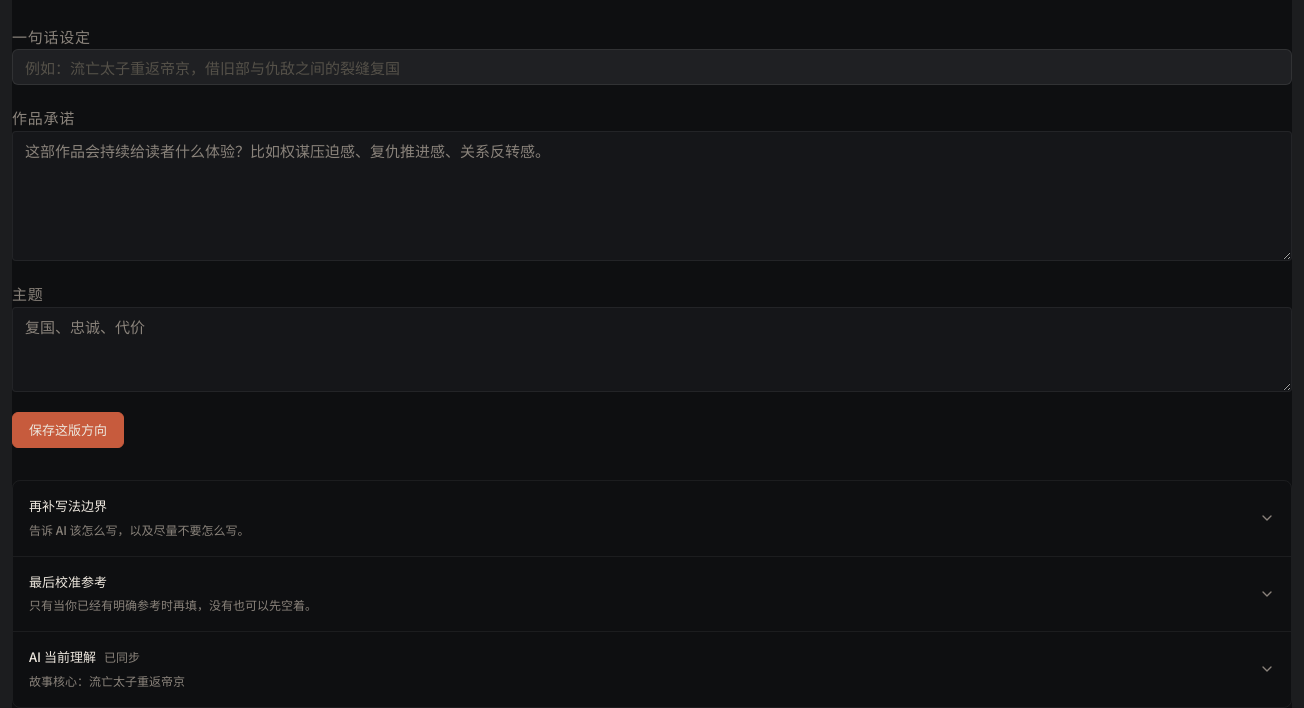
Test: ProjectCharterForm › renders ai understanding as collapsed read-only feedback
(page scrolled)
Check: the text "已同步" is shown, box [104, 650, 140, 666]
Check: the text "故事核心：流亡太子重返帝京" is shown, box [29, 671, 185, 691]
Click the button "AI 当前理解 已同步 故事核心：流亡太子重返帝京" at (63, 657), box [13, 632, 1291, 707]
(page scrolled)
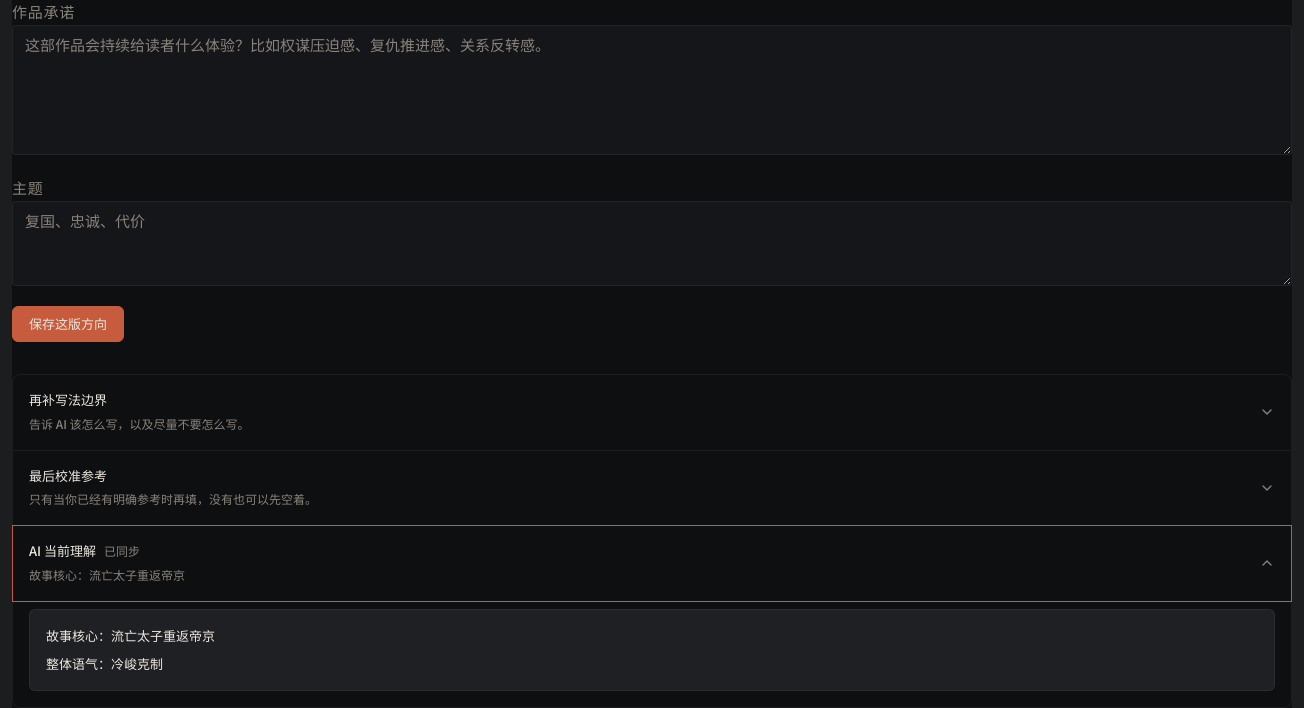
Check: the text "故事核心：流亡太子重返帝京 整体语气：冷峻克制" is shown, box [29, 609, 1275, 691]
